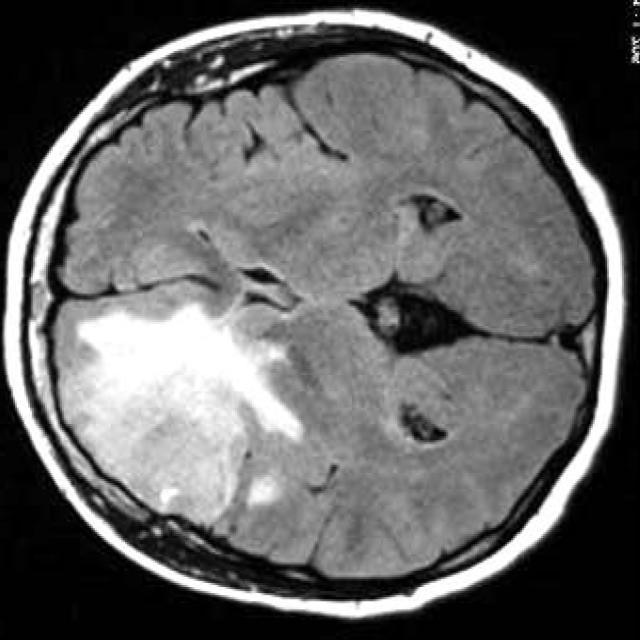Tumor: (71, 302, 306, 526)
